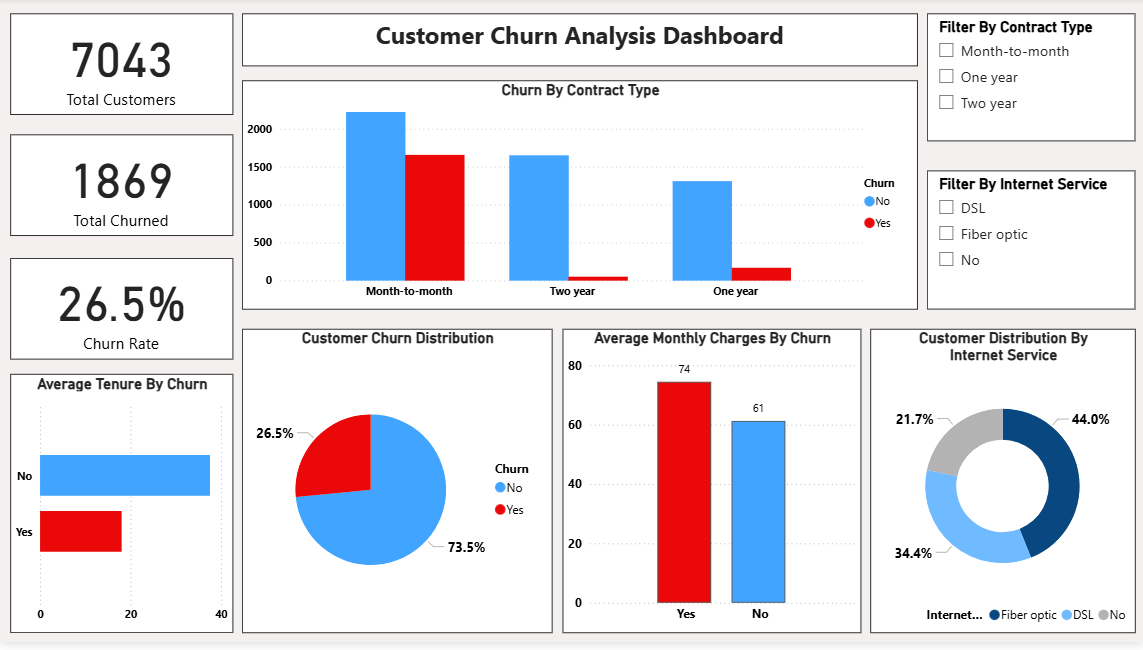

The dashboard page shown, as its layout file describes it:
{"tool":"powerbi","page":{"name":"Page 1","canvas":[1280,720],"ordinal":0},"visuals":[{"type":"card","fields":{"Values":["WA_Fn-UseC_-Telco-Customer-Churn.Total_Customers"]},"box":[17.3,37.4,279.3,125.3],"z":0},{"type":"card","fields":{"Values":["WA_Fn-UseC_-Telco-Customer-Churn.Total_Churned"]},"box":[16.5,220.3,280.2,139.4],"z":1000},{"type":"card","fields":{"Values":["WA_Fn-UseC_-Telco-Customer-Churn.Churn Rate"]},"box":[16.5,439.1,280.2,113.9],"z":2000},{"type":"clusteredColumnChart","title":"CHURN BY CONTRACT TYPE","fields":{"Category":["WA_Fn-UseC_-Telco-Customer-Churn.Contract"],"Series":["WA_Fn-UseC_-Telco-Customer-Churn.Churn"],"Y":["WA_Fn-UseC_-Telco-Customer-Churn.Total_Customers"]},"box":[248.7,12,558.9,181.3],"z":3000},{"type":"pieChart","title":"CUSTOMER CHURN DISTRIBUTION","fields":{"Category":["WA_Fn-UseC_-Telco-Customer-Churn.Churn"],"Y":["CountNonNull(WA_Fn-UseC_-Telco-Customer-Churn.customerID)"]},"box":[248.7,244.3,347.6,308.7],"z":4000},{"type":"columnChart","title":"AVERAGE MONTHLY CHARGES BY CHURN","fields":{"Category":["WA_Fn-UseC_-Telco-Customer-Churn.Churn"],"Y":["Avg(WA_Fn-UseC_-Telco-Customer-Churn.MonthlyCharges)"]},"box":[824.2,0,340.2,220.3],"z":5000},{"type":"clusteredBarChart","title":"AVERAGE TENURE BY CHURN","fields":{"Category":["WA_Fn-UseC_-Telco-Customer-Churn.Churn"],"Y":["Avg(WA_Fn-UseC_-Telco-Customer-Churn.tenure)"]},"box":[614.4,235.3,248.7,328.2],"z":6000},{"type":"donutChart","title":"CUSTOMER DISTRIBUTION BY INTERNET SERVICE","fields":{"Category":["WA_Fn-UseC_-Telco-Customer-Churn.InternetService"],"Y":["CountNonNull(WA_Fn-UseC_-Telco-Customer-Churn.customerID)"]},"box":[875.1,304.2,404.6,259.2],"z":7000},{"type":"textbox","box":[16.5,620.4,579.9,98.9],"z":8000}]}

Visuals, with their boxes in screenshot pixels (x1, y1, x2, y2), scaled from the page's 1280x720 canvas onto the 1143x650 screenshot:
card - WA_Fn-UseC_-Telco-Customer-Churn.Total_Customers: crop(15, 34, 265, 147)
card - WA_Fn-UseC_-Telco-Customer-Churn.Total_Churned: crop(15, 199, 265, 325)
card - WA_Fn-UseC_-Telco-Customer-Churn.Churn Rate: crop(15, 396, 265, 499)
"CHURN BY CONTRACT TYPE" clusteredColumnChart: crop(222, 11, 721, 175)
"CUSTOMER CHURN DISTRIBUTION" pieChart: crop(222, 221, 532, 499)
"AVERAGE MONTHLY CHARGES BY CHURN" columnChart: crop(736, 0, 1040, 199)
"AVERAGE TENURE BY CHURN" clusteredBarChart: crop(549, 212, 771, 509)
"CUSTOMER DISTRIBUTION BY INTERNET SERVICE" donutChart: crop(781, 275, 1142, 509)
textbox: crop(15, 560, 533, 649)
